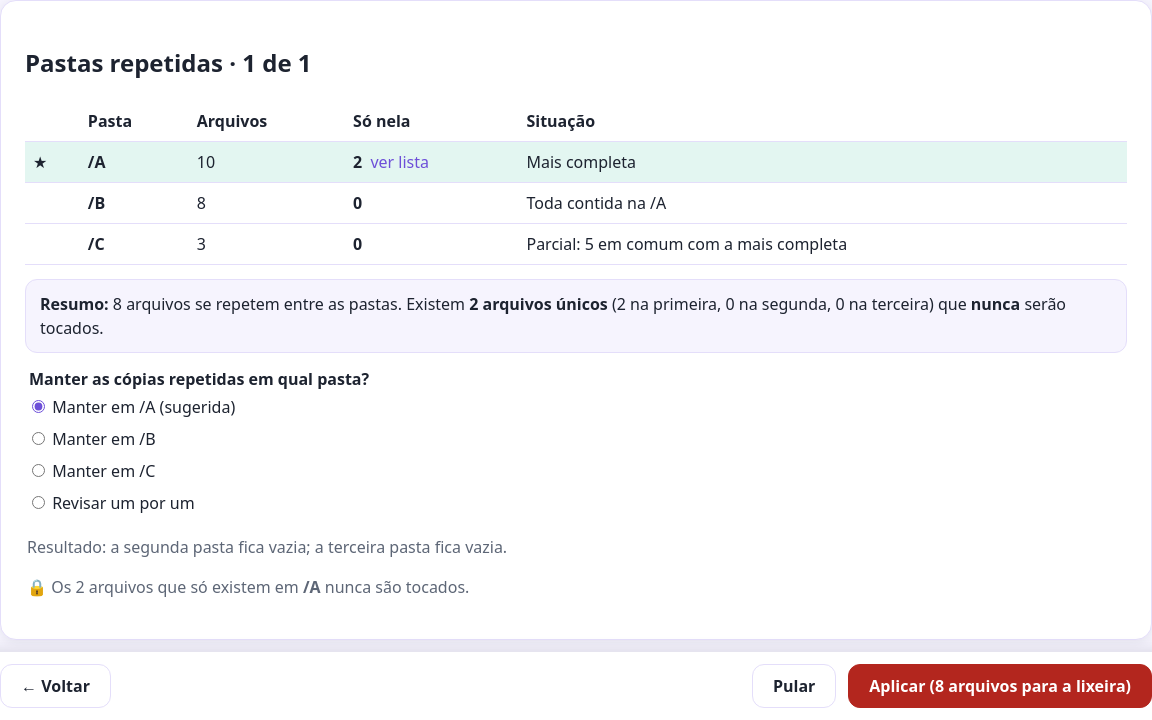
duas trocas rápidas com respostas fora de ordem: vale o último plano
expect the text "Resultado: a segunda pasta fica vazia; a terceira pasta fica vazia." is shown: met, box top-left (27, 536), bottom-right (507, 558)
What coordinates should you click on to do the following:
click the radio button labelled "Manter em /B"
I would click on:
 (38, 438)
Its box is top-left (32, 432), bottom-right (45, 445).
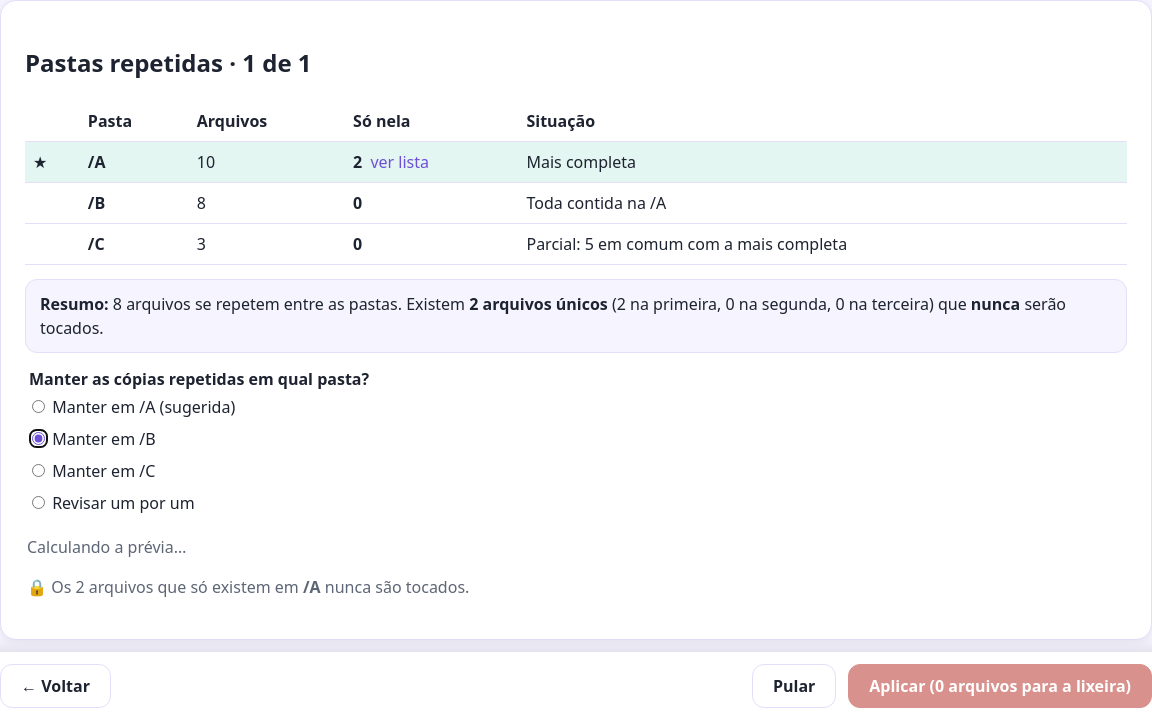
What coordinates should you click on to do the following:
click the radio button labelled "Manter em /C"
I would click on:
 (38, 470)
Its box is top-left (32, 464), bottom-right (45, 477).
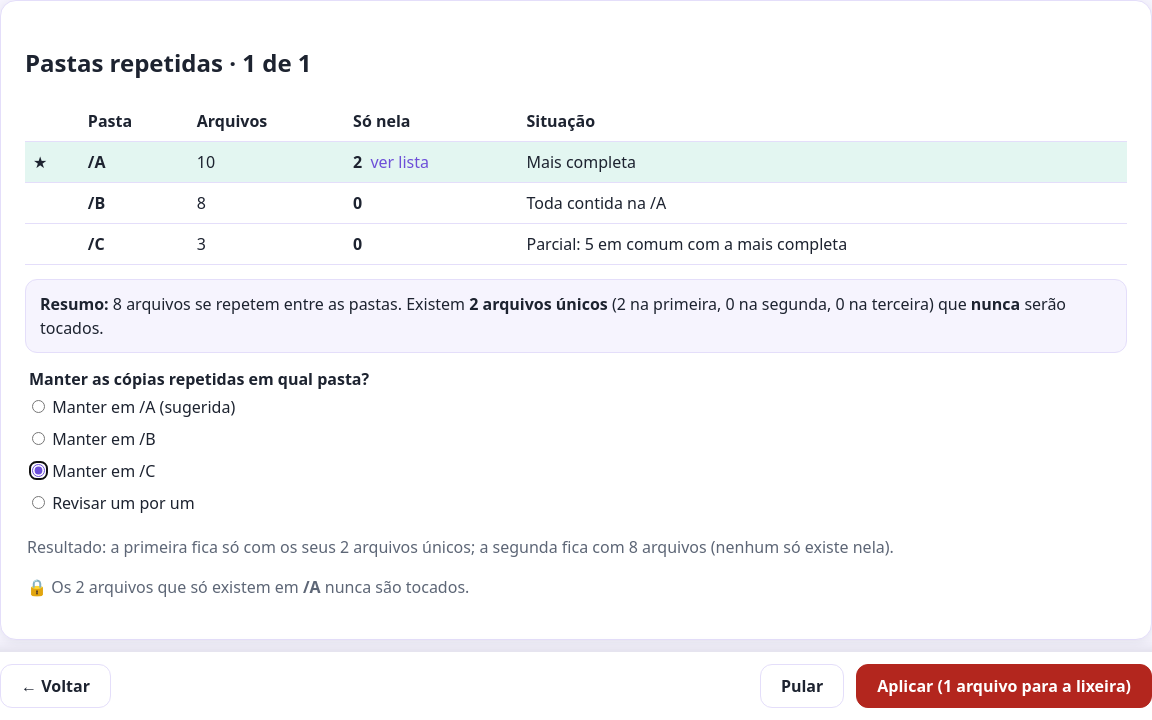
expect the button "Aplicar (1 arquivo para a lixeira)" is enabled: met
What coordinates should you click on to do the following:
click the button "Aplicar (1 arquivo para a lixeira)"
I would click on:
 (1004, 686)
Its box is top-left (856, 664), bottom-right (1151, 708).
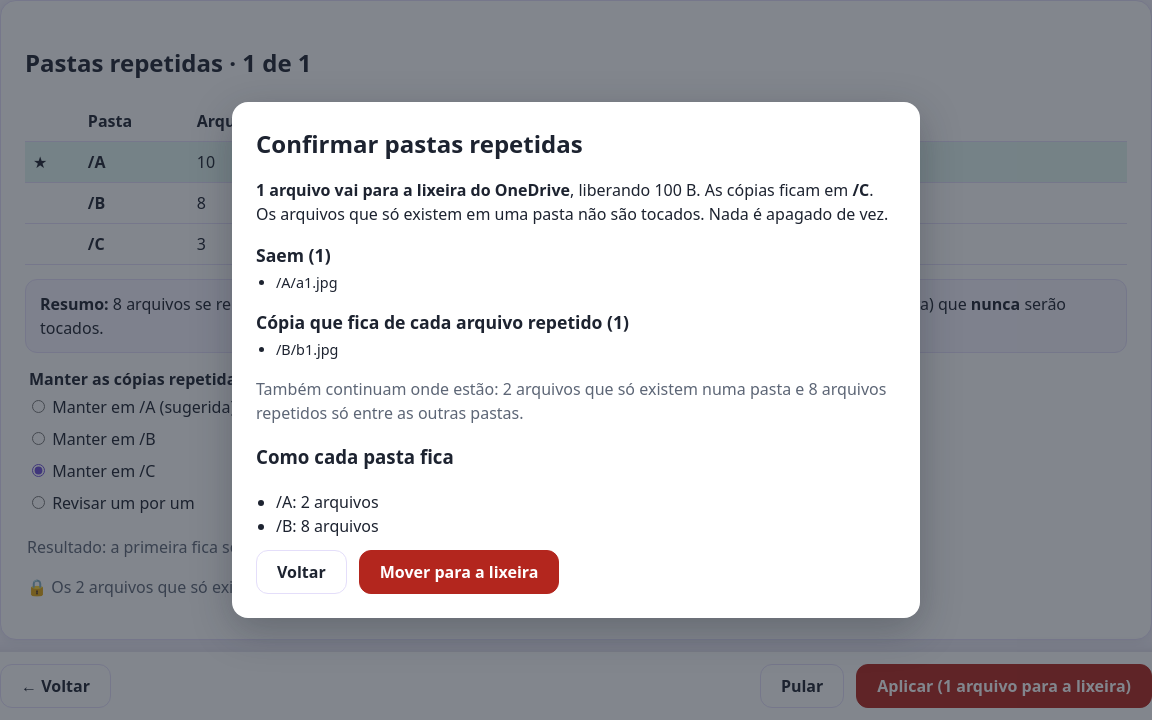
What coordinates should you click on to do the following:
click the button "Mover para a lixeira"
I would click on:
 (459, 572)
Its box is top-left (359, 550), bottom-right (560, 594).
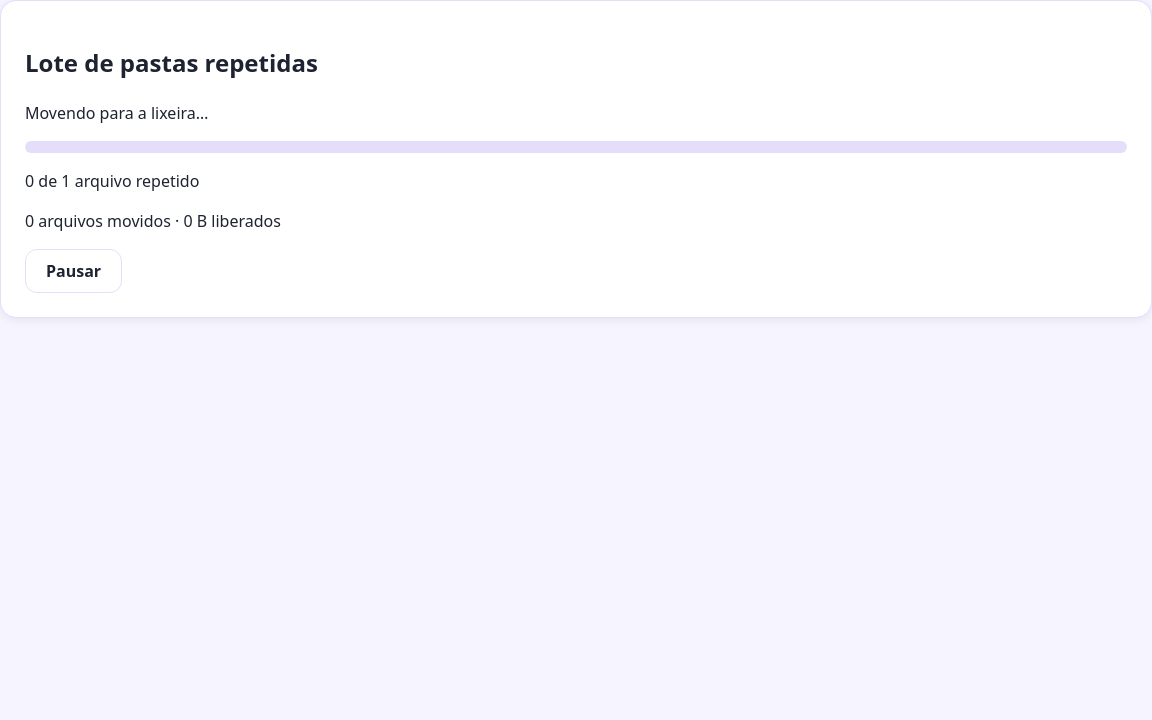
expect the heading "Lote de pastas repetidas" is shown: met, box top-left (25, 46), bottom-right (318, 79)
